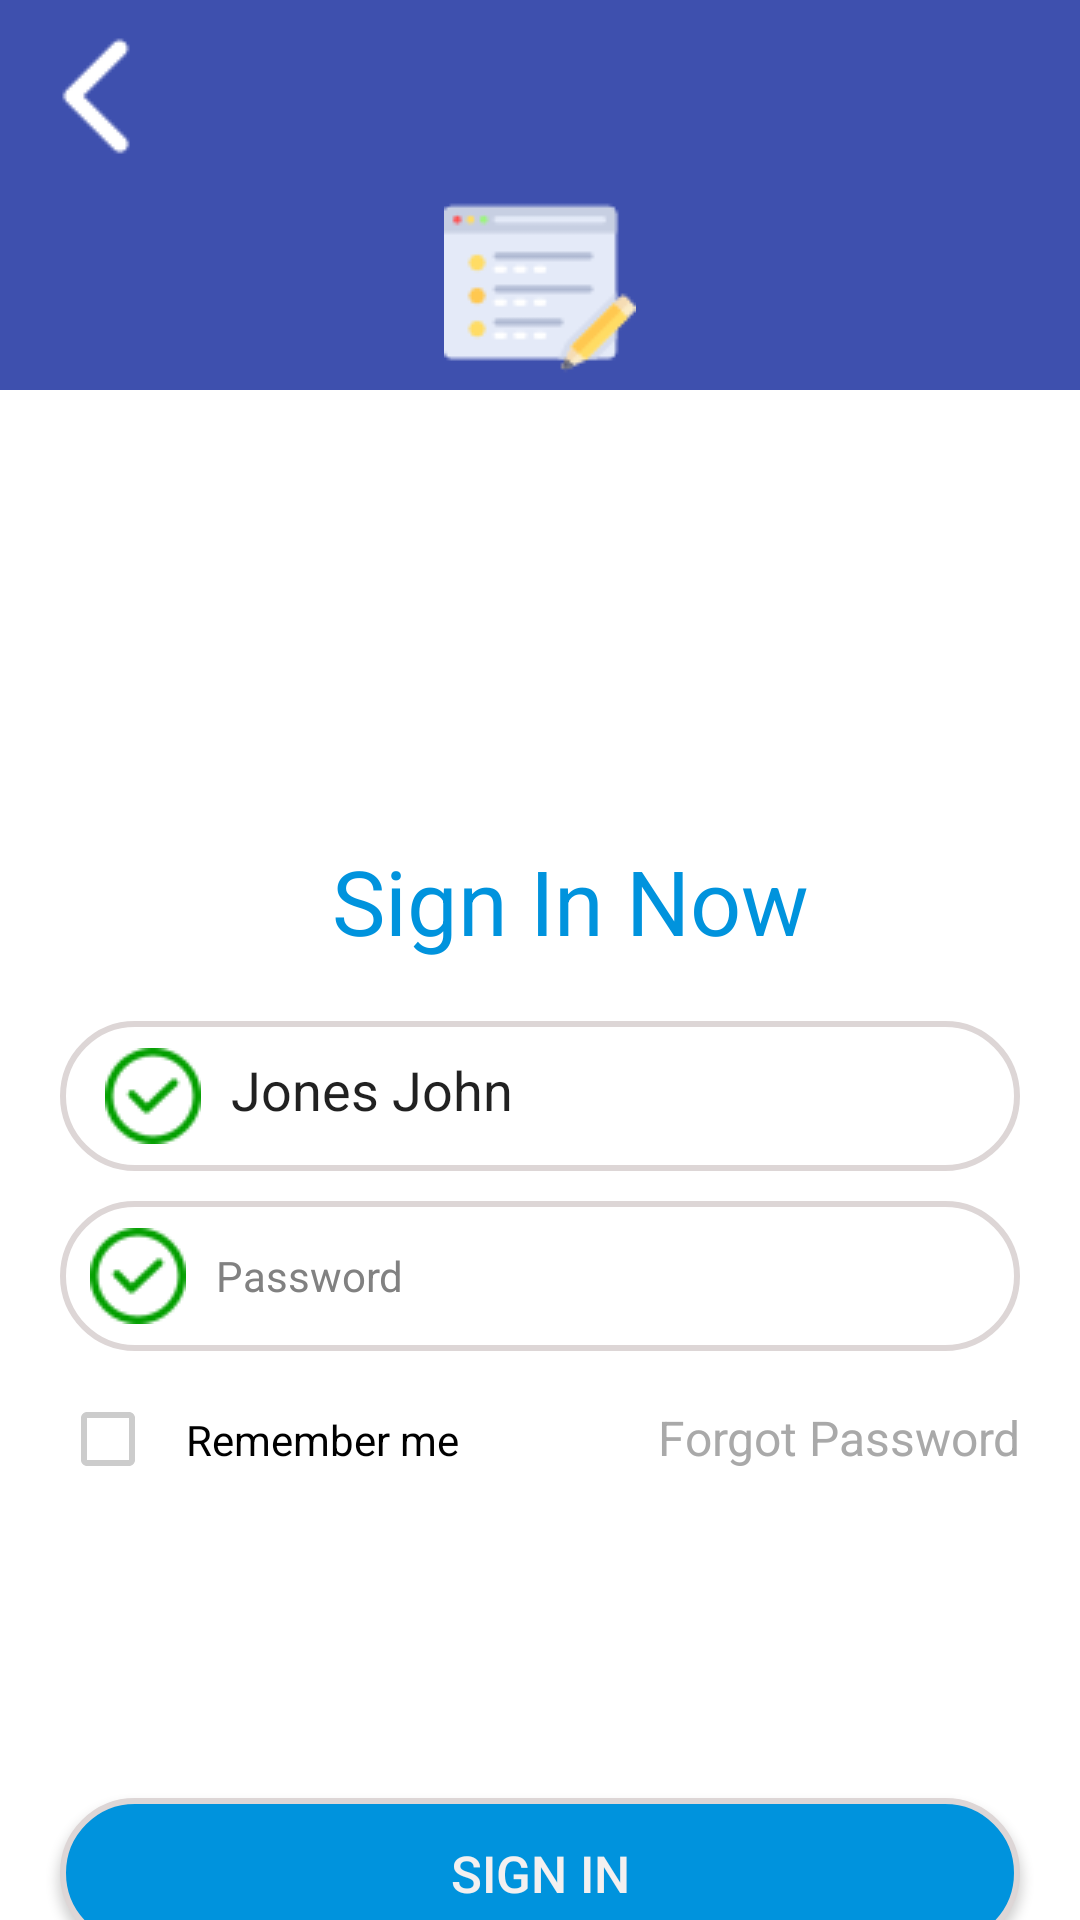

Named icons in this screenshot (1080px x 1920px) and their centers, point (x, y):
back arrow: point (96, 96)
web site: point (540, 287)
